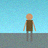person: (23, 14, 36, 41)
